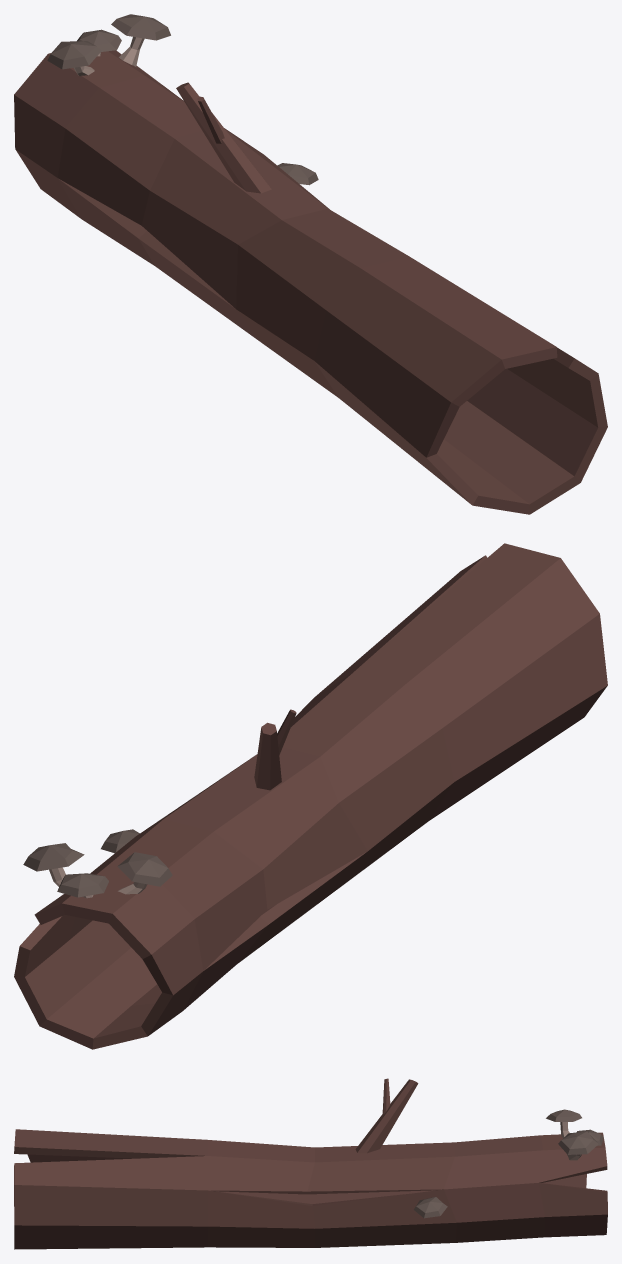
The model's file is WoodLog.gltf.
The picture shows the model from 3 angles, top to bottom: view 1: azimuth 30°, elevation 25°; view 2: azimuth 150°, elevation 25°; view 3: azimuth 270°, elevation 25°; orthographic projection. The views are drawn at different scales.
Parts seen in each view (by area): view 1: WoodLog; view 2: WoodLog; view 3: WoodLog.
Part boxes in pixels (<box>): WoodLog: <box>14,14,607,514</box>; WoodLog: <box>14,543,607,1049</box>; WoodLog: <box>14,1078,607,1249</box>.
Bounding box in the file's own units: 0.6329 × 0.7483 × 2.67.
